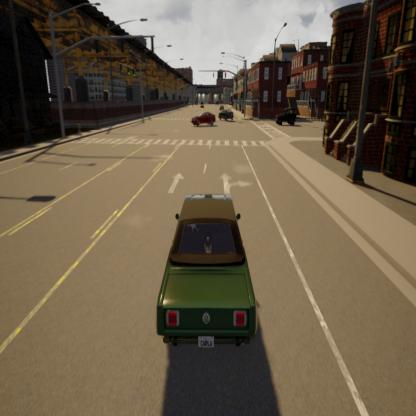Cars: (156, 194, 258, 350), (191, 111, 217, 129), (276, 106, 296, 128), (218, 108, 234, 121)
